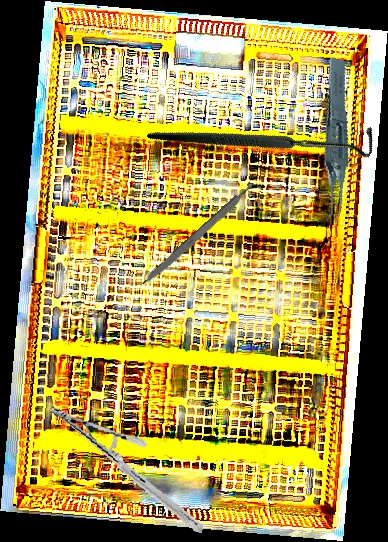Hook Surgical: (146, 31, 383, 240)
Needle Holder: (33, 404, 220, 534)
Scalpel Handle: (139, 181, 259, 289)
Tissue Forceps: (287, 56, 379, 227)
